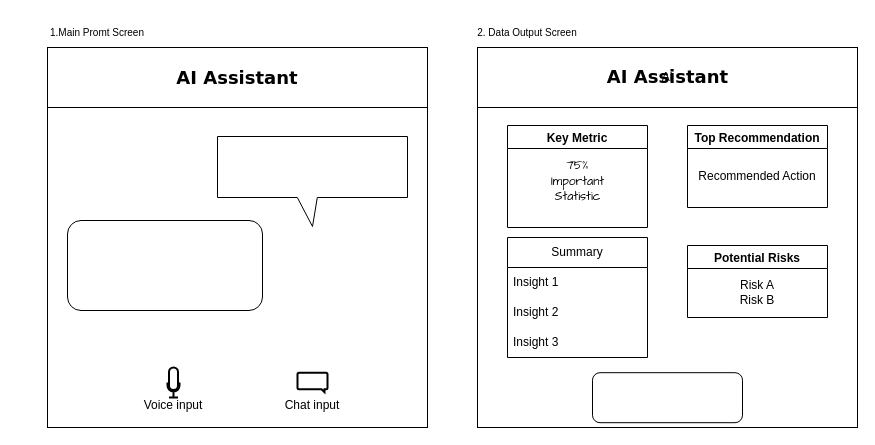
Image size: 875x445. Some labels were removed from this diagram. Each missing label, with the centre of its shape:
How can i help you?: pixel 312 181
Make decision: pixel 667 397
Type your request...: pixel 164 265
